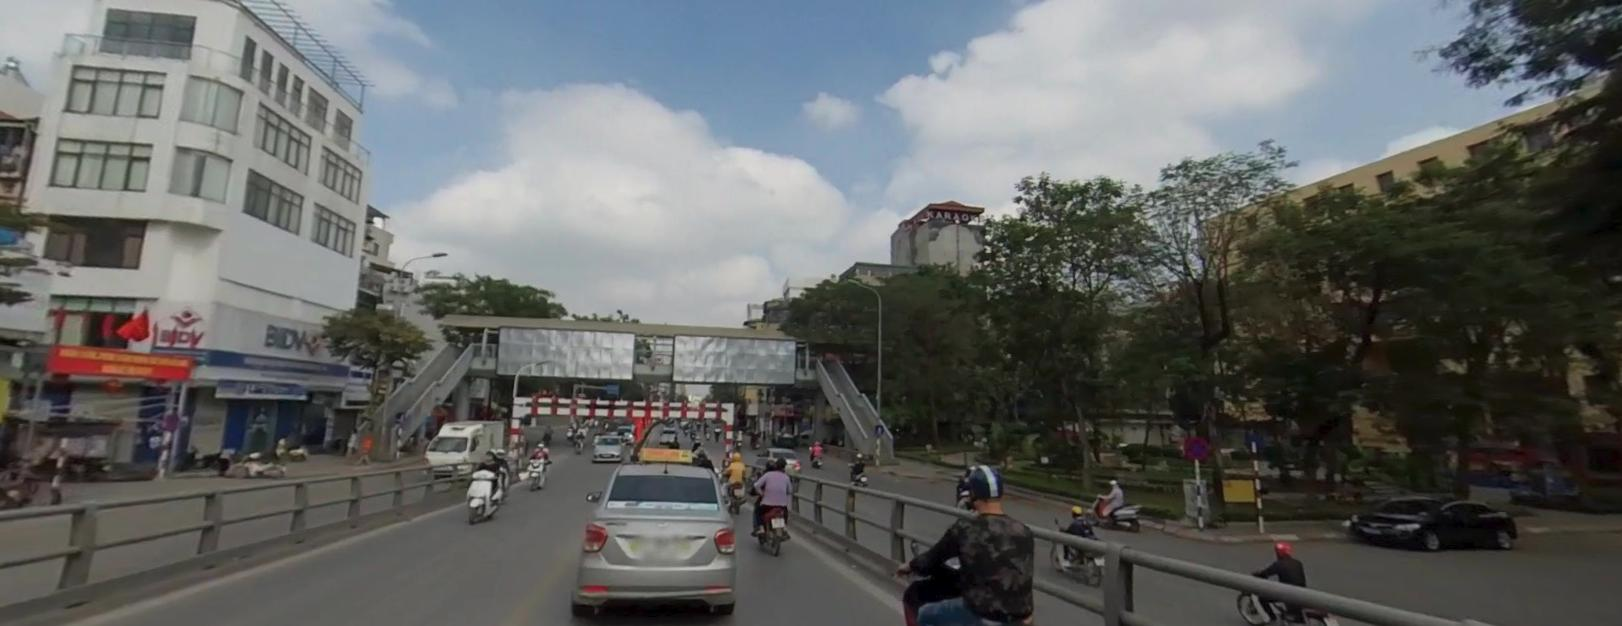Cam dung va do: (1184, 433, 1210, 459), (1185, 434, 1207, 458), (1184, 436, 1207, 458), (165, 411, 178, 429)
